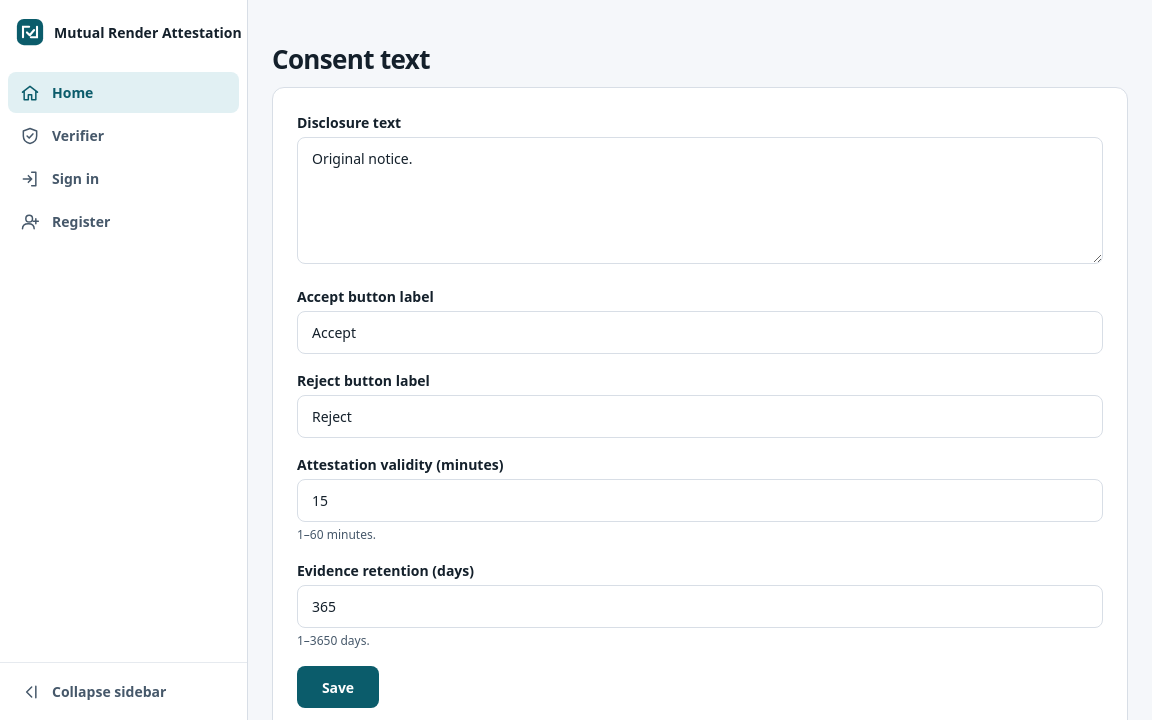
Scenario: AdminConsent page › rejects Evidence retention (days) = 0 locally
Replace the text in the number field labelled "Evidence retention (days)" with "0": (700,606) [297,585,1103,628]
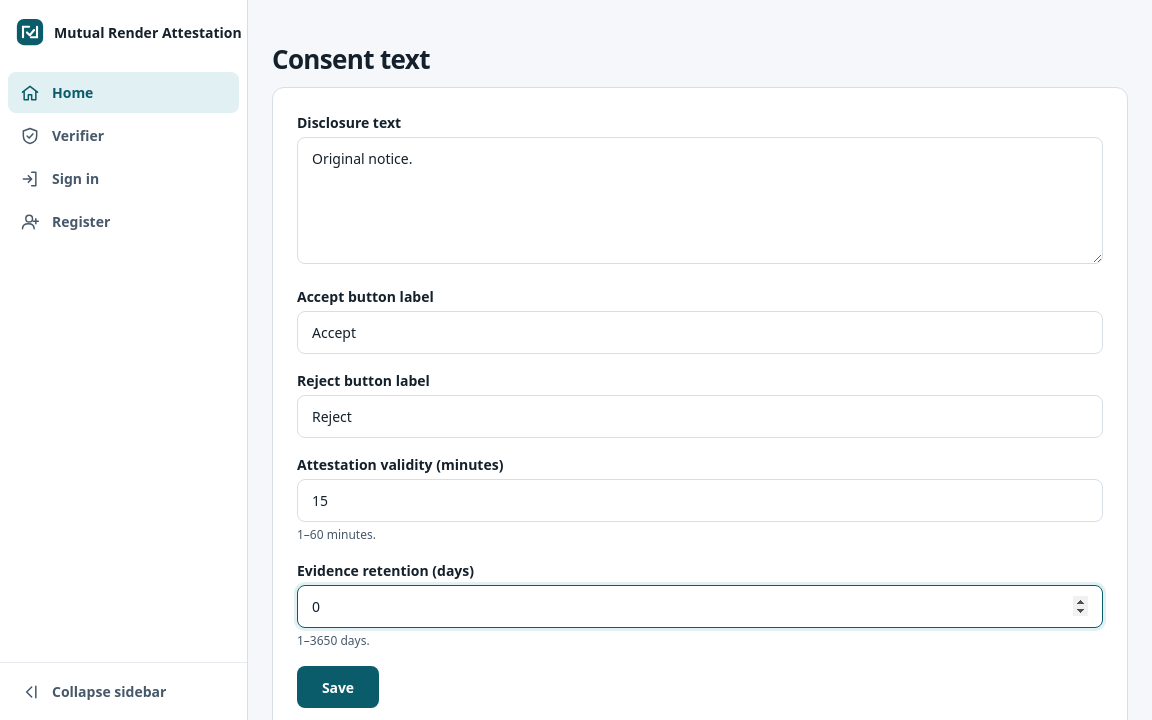
Click the button "Save": (338,687) [297,666,379,708]
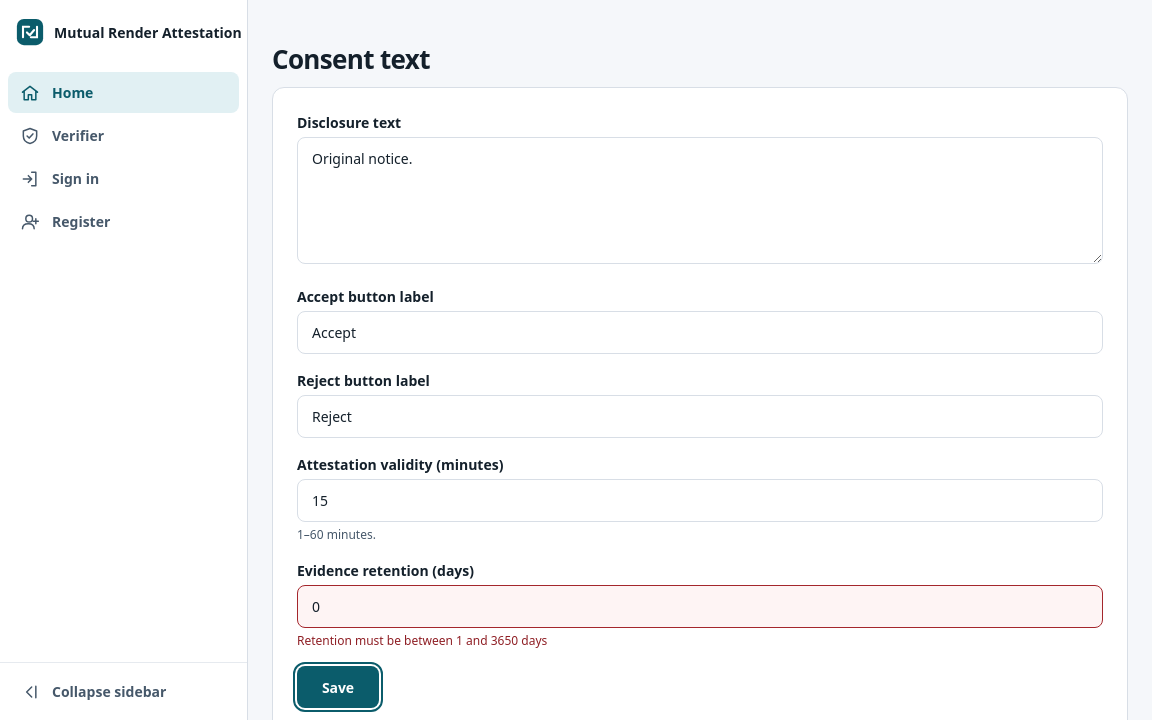
Check: the text "Retention must be between 1 and 3650 days" is shown, box [297,632,547,649]
